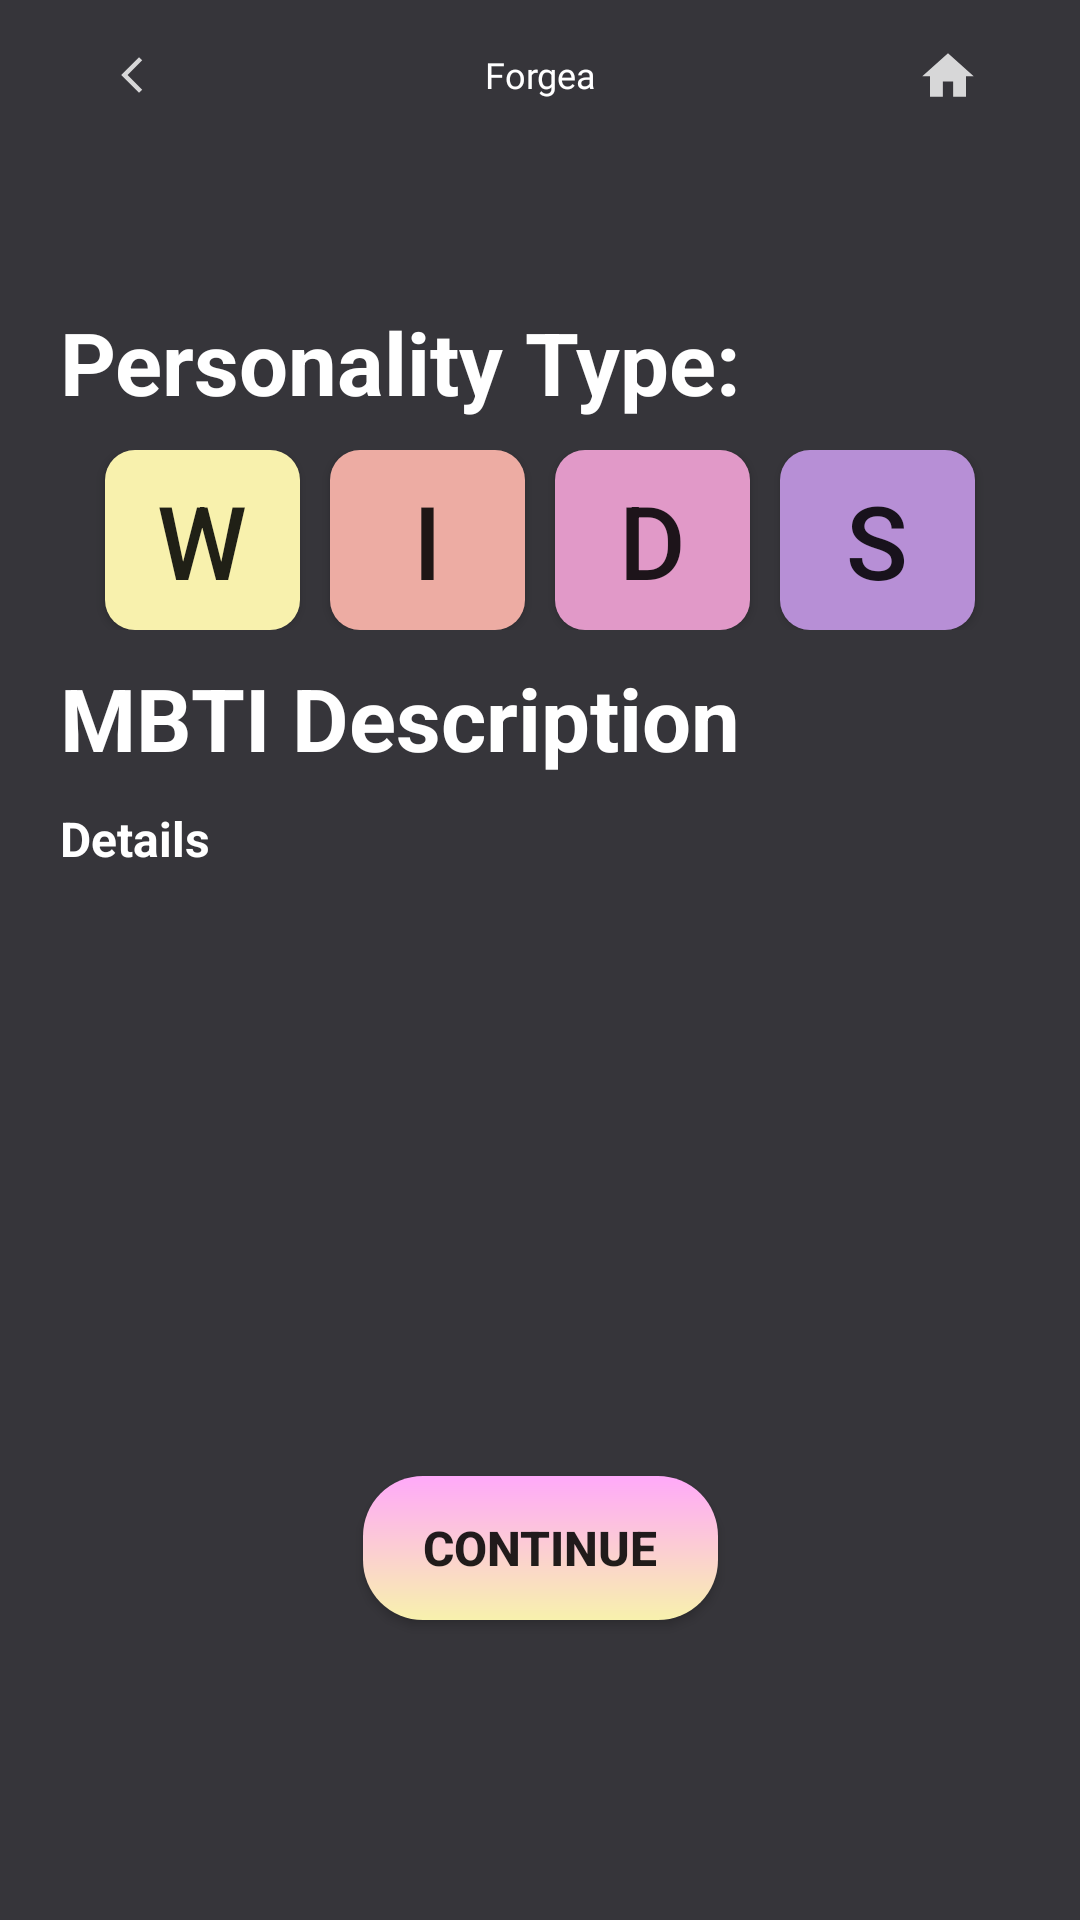

Screen size 1080 x 1920. Icon name, then its center in pixels as (x=x, y=y):
back arrow: (x=131, y=75)
home: (x=948, y=75)
